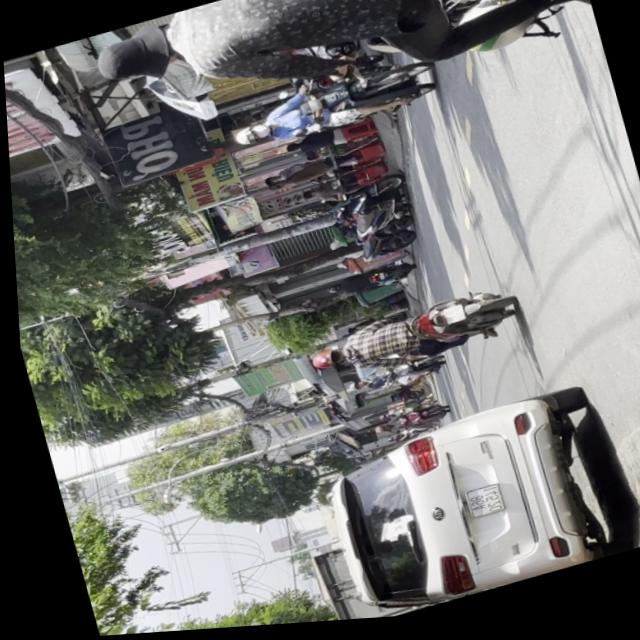helmet: (228, 124, 270, 151), (302, 349, 340, 377)
licenseplate: (80, 0, 601, 165), (294, 285, 520, 394), (219, 54, 442, 163)
motorcyclist: (86, 20, 184, 94)
nohelmet: (436, 309, 460, 331)
